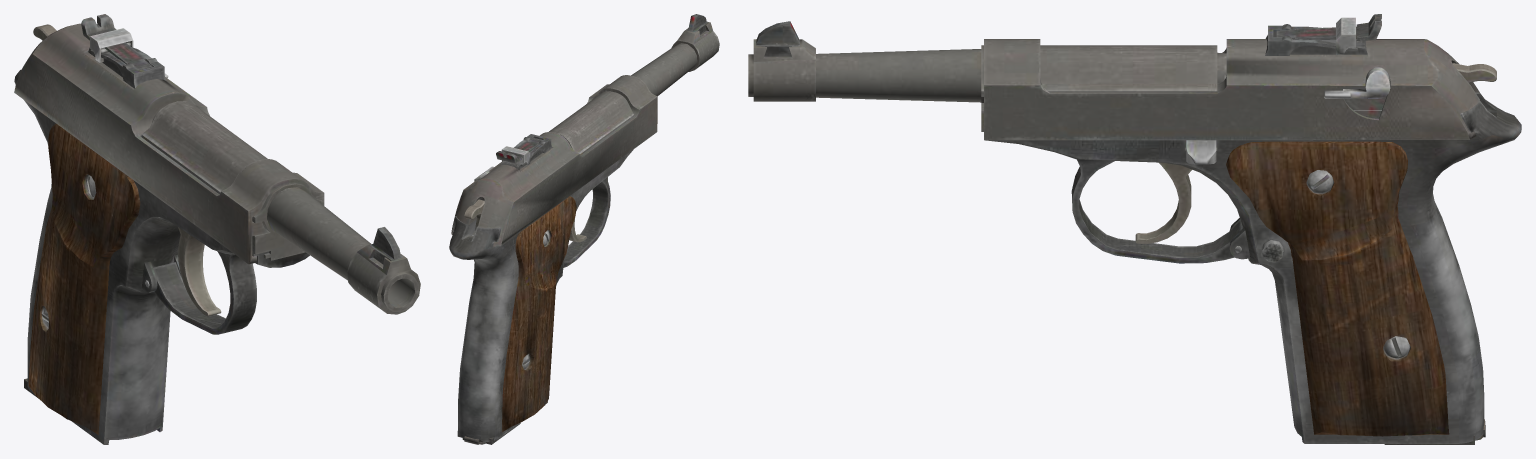
File: pistol.glb
3 renders of one model, left to right at view 1: azimuth 30°, elevation 25°; view 2: azimuth 150°, elevation 25°; view 3: azimuth 270°, elevation 25°, orthographic. The views are drawn at different scales.
Visible parts, largest first — view 1: frame, slide, trigger; view 2: frame, slide, hammer; view 3: frame, slide, trigger.
Boxes of the visible parts, x1,y1,x2,y2 form: frame: (14,69,420,444); slide: (14,14,324,264); trigger: (178,227,221,316); frame: (449,14,719,442); slide: (451,75,657,246); hammer: (464,199,484,234); frame: (748,21,1521,443); slide: (984,14,1479,140); trigger: (1135,162,1191,243).
Size of the model in its own units: 0.0319 by 0.1307 by 0.2219.
1 material, 1 textured.
